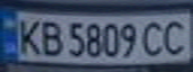0: (103, 19, 121, 58)
5: (63, 19, 87, 57)
8: (81, 20, 106, 58)
9: (118, 20, 142, 58)
B: (36, 18, 66, 57)
C: (157, 17, 193, 56), (139, 18, 172, 57)
K: (12, 16, 45, 56)
